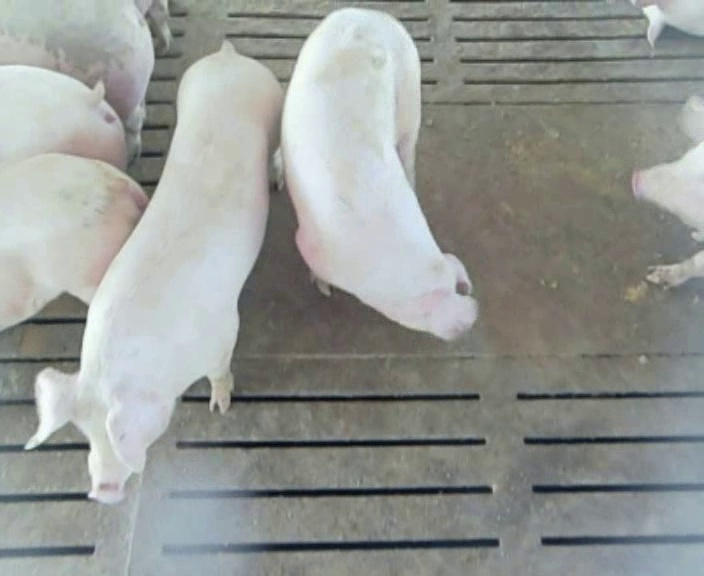pig: (26, 42, 283, 502), (281, 8, 477, 338), (0, 153, 146, 330)
